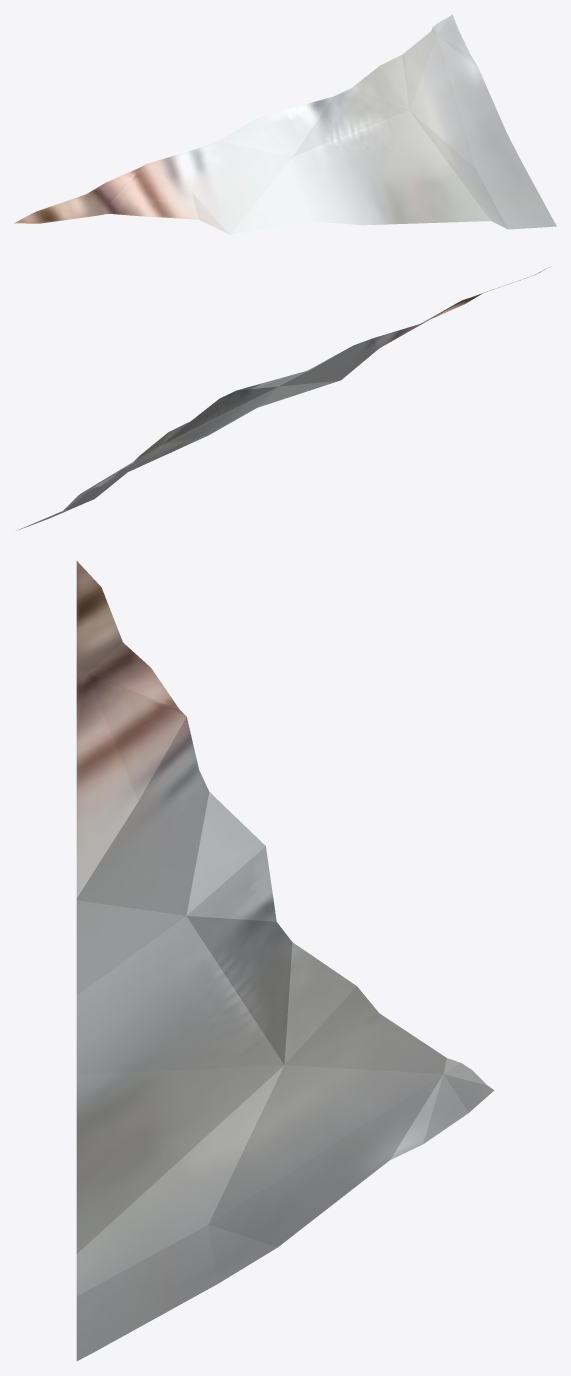
3 views of the same model, one above another, from view 1: azimuth 30°, elevation 25°; view 2: azimuth 210°, elevation 25°; view 3: azimuth 270°, elevation 25° (orthographic). The views are drawn at different scales.
Size of the model in its own units: 0.9957 by 0.2377 by 0.3319.
1 material, 1 textured.
